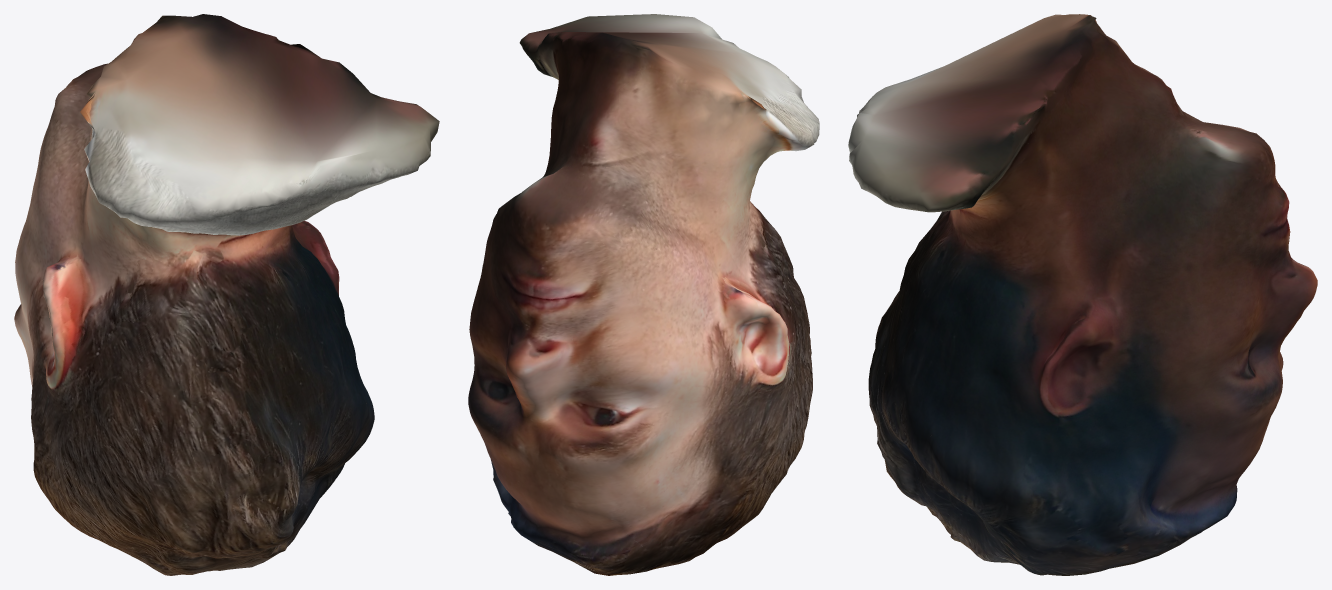
The model's file is Gileshead.obj.
3 views of the same model, side by side, from view 1: azimuth 30°, elevation 25°; view 2: azimuth 150°, elevation 25°; view 3: azimuth 270°, elevation 25° (orthographic). The views are drawn at different scales.
Parts seen in each view (by area): view 1: mesh; view 2: mesh; view 3: mesh.
Boxes of the visible parts, box(x1,y1,x2,y2) form: mesh: box(14, 14, 439, 575); mesh: box(468, 14, 819, 575); mesh: box(848, 14, 1317, 575).
Size of the model in its own units: 0.3146 by 0.4848 by 0.3889.
Materials: 1 (1 with a texture image).
